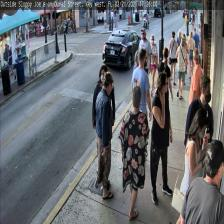person: (119, 87, 148, 220), (184, 74, 214, 190), (180, 108, 210, 224), (150, 72, 173, 204), (94, 72, 113, 198), (92, 64, 111, 190), (131, 49, 150, 136), (187, 48, 201, 127), (156, 47, 174, 98), (139, 28, 150, 85), (148, 34, 157, 96)
